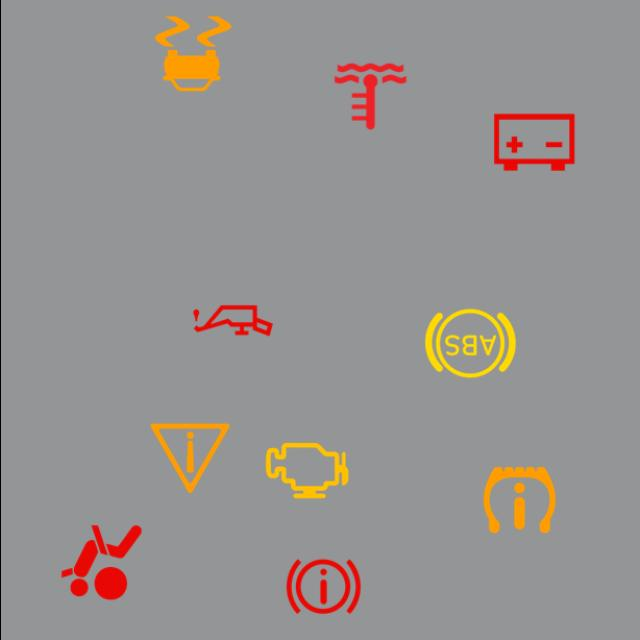Anti Lock Braking System: (420, 294, 519, 393)
Braking System Issue: (273, 537, 372, 636)
Charging System Issue: (483, 93, 582, 192)
Check Engine: (256, 421, 356, 520)
Electronic Stability Problem -ESP-: (143, 4, 242, 103)
Engine Overheating Warning Light: (320, 47, 419, 146)
Low Engine Oil Warning Light: (182, 271, 282, 370)
Low Tire Pressure Warning Light: (469, 450, 568, 550)
Master warning light: (140, 408, 238, 508)
SRS-Airbag: (51, 513, 150, 612)
